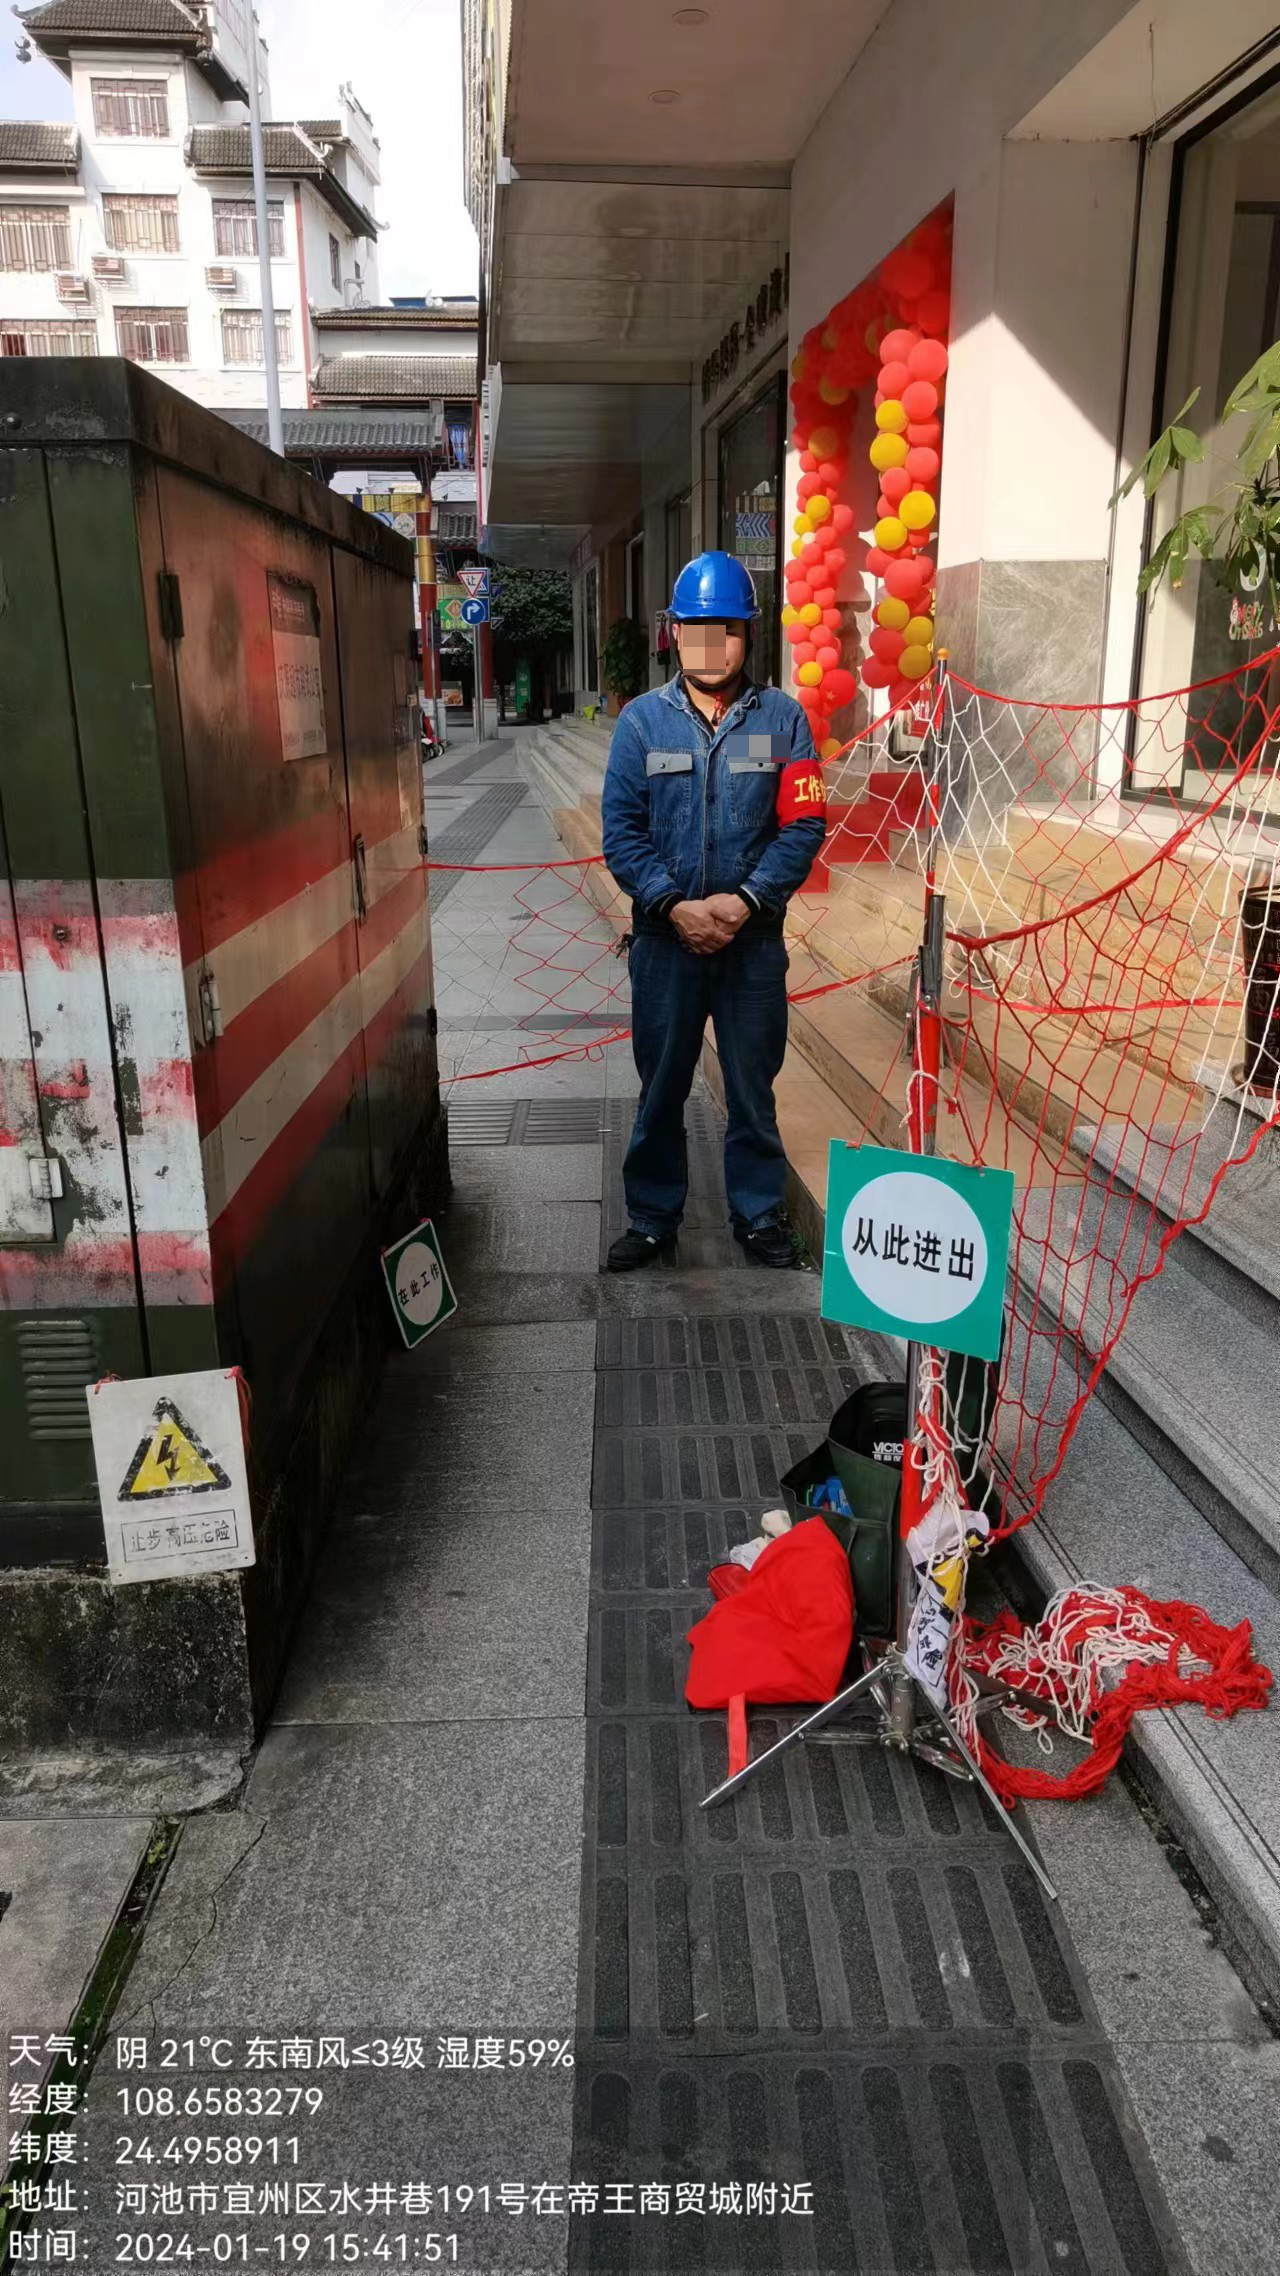badge: (775, 763, 822, 829)
downsuit: (616, 948, 798, 1231)
halt: (661, 549, 761, 684)
hand: (663, 881, 753, 961)
inear: (669, 619, 687, 663)
intosign: (804, 1118, 1029, 1383)
person: (592, 548, 829, 1269)
upsuit: (601, 682, 817, 936)
worksign: (368, 1201, 482, 1366)
